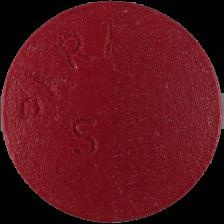64980-183: (0, 0, 224, 224)
